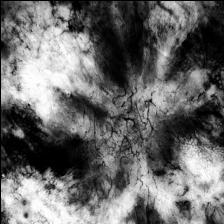Potentially Malignant Skin Tumors: (63, 50, 181, 195)
